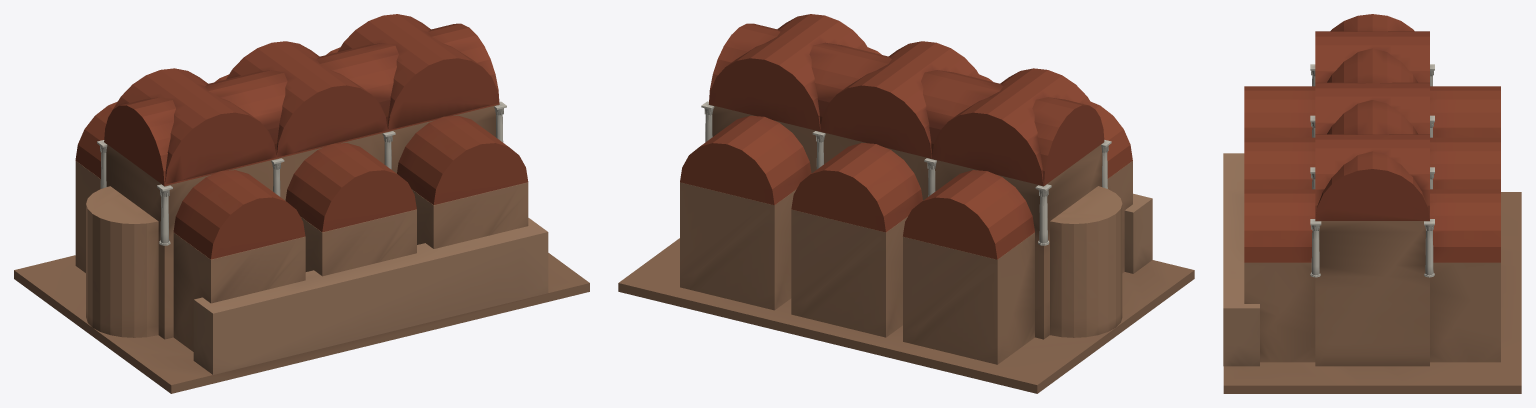
File: basilica-of-maxentius.glb
3 views of the same model, side by side, from view 1: azimuth 30°, elevation 25°; view 2: azimuth 150°, elevation 25°; view 3: azimuth 270°, elevation 25° (orthographic). The views are drawn at different scales.
Parts seen in each view (by area): view 1: p2_vaults, p1_aisles, p0_platform; view 2: p2_vaults, p1_aisles, p0_platform; view 3: p2_vaults, p1_aisles, p0_platform.
Boxes of the visible parts, box(x1,y1,x2,y2) form: p2_vaults: box(75, 14, 528, 259); p1_aisles: box(75, 101, 548, 374); p0_platform: box(14, 253, 589, 393); p2_vaults: box(680, 14, 1132, 259); p1_aisles: box(680, 101, 1152, 364); p0_platform: box(618, 238, 1194, 393); p2_vaults: box(1244, 14, 1500, 262); p1_aisles: box(1223, 64, 1500, 366); p0_platform: box(1223, 192, 1521, 393).
Bounding box in the file's own units: 100 × 50.3 × 65.04.
